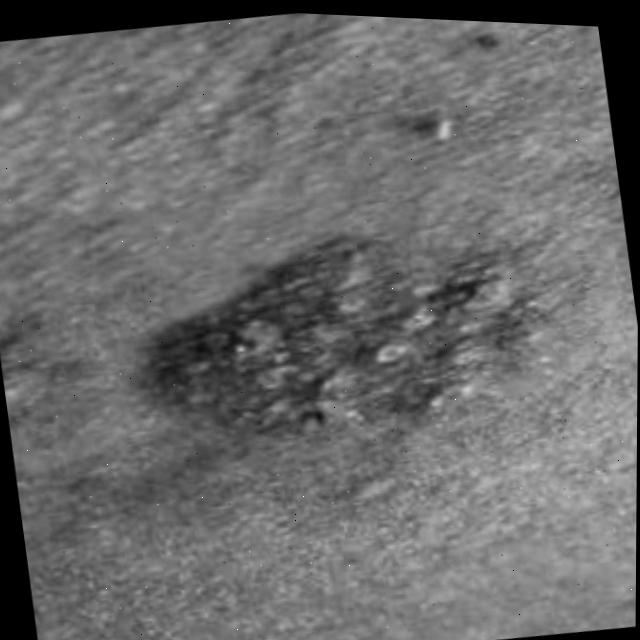Shingles: (162, 227, 513, 454)
